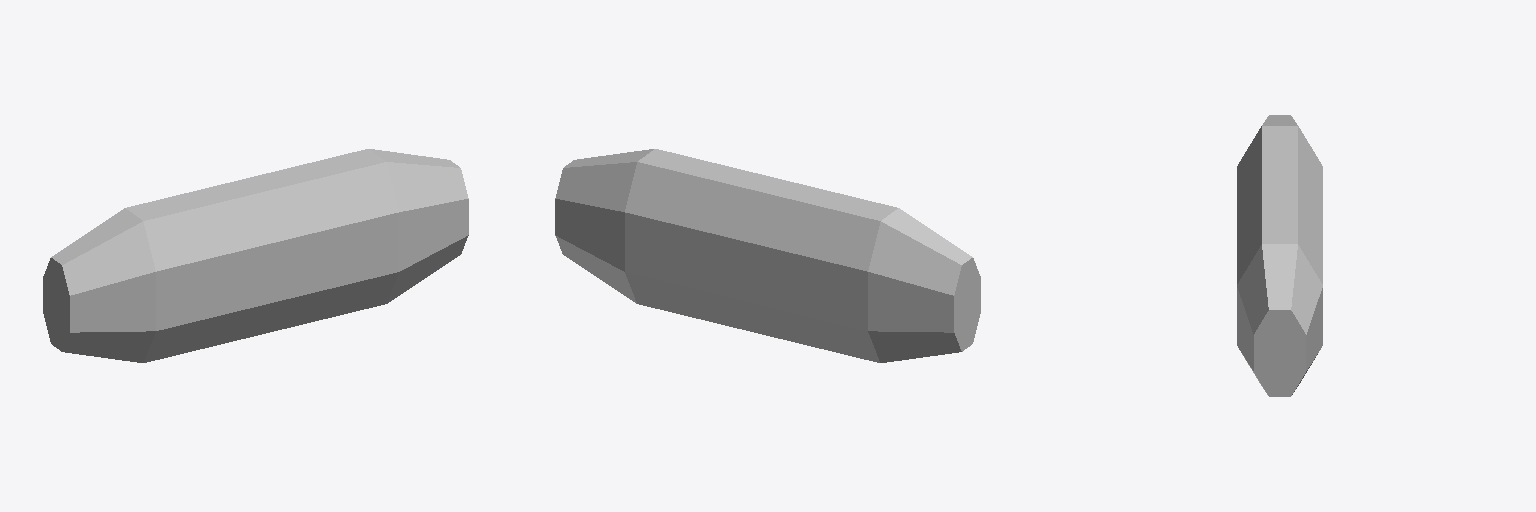
File: diamond.obj
3 views of the same model, side by side, from view 1: azimuth 30°, elevation 25°; view 2: azimuth 150°, elevation 25°; view 3: azimuth 270°, elevation 25° (orthographic).
Parts seen in each view (by area): view 1: Cube; view 2: Cube; view 3: Cube.
Boxes of the visible parts, x1,y1,x2,y2 form: Cube: [43, 149, 468, 362]; Cube: [555, 149, 980, 362]; Cube: [1237, 115, 1322, 396].
Bounding box in the file's own units: 4.59 × 1.56 × 0.8617.